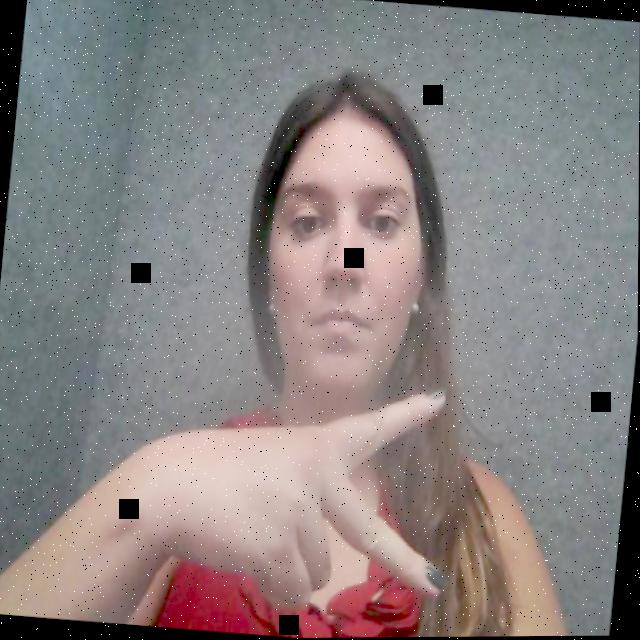Scissors: (90, 356, 492, 639)
